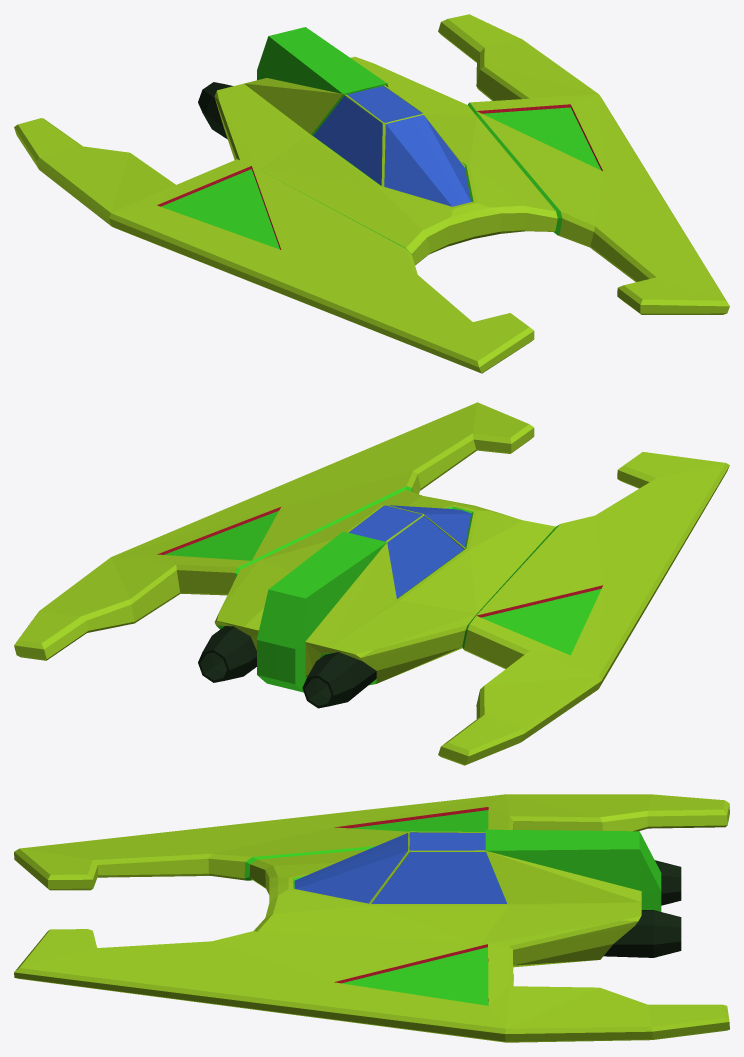
File: mantaRay_v2.fbx
3 views of the same model, one above another, from view 1: azimuth 30°, elevation 25°; view 2: azimuth 150°, elevation 25°; view 3: azimuth 270°, elevation 25° (orthographic).
Visible parts, largest first — view 1: MantaRay; view 2: MantaRay; view 3: MantaRay.
Part boxes in pixels (x1,y1,x2,y2): MantaRay: [14, 14, 729, 373]; MantaRay: [14, 402, 729, 765]; MantaRay: [14, 794, 729, 1042].
Size of the model in its own units: 0.0159 by 0.00325 by 0.0203.
